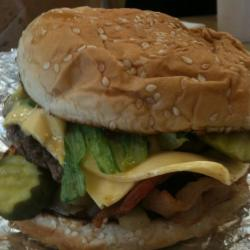burger: (1, 5, 249, 249)
